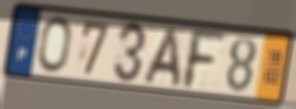3: (112, 20, 148, 86)
7: (81, 20, 109, 77)
8: (223, 33, 259, 95)
A: (140, 25, 183, 90)
F: (182, 26, 227, 93)
O: (36, 15, 73, 75)
